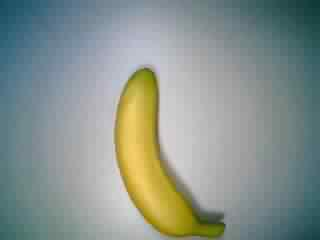banana: (111, 67, 230, 238)
